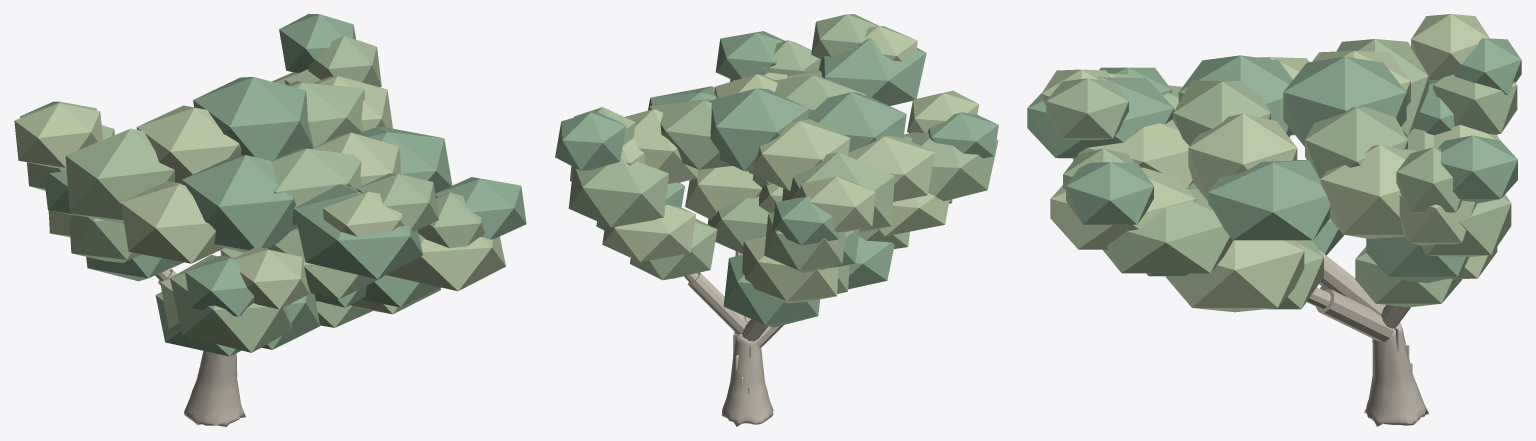
Rendered from plane-tree-d.glb.
3 renders of one model, left to right at view 1: azimuth 30°, elevation 25°; view 2: azimuth 150°, elevation 25°; view 3: azimuth 270°, elevation 25°, orthographic. The views are drawn at different scales.
Parts seen in each view (by area): view 1: plane-tree-d; view 2: plane-tree-d; view 3: plane-tree-d.
Part boxes in pixels (bbox=[...]): plane-tree-d: bbox=[14, 14, 526, 426]; plane-tree-d: bbox=[555, 14, 998, 426]; plane-tree-d: bbox=[1027, 14, 1521, 426].
Size of the model in its own units: 9.04 by 8.72 by 10.66.
